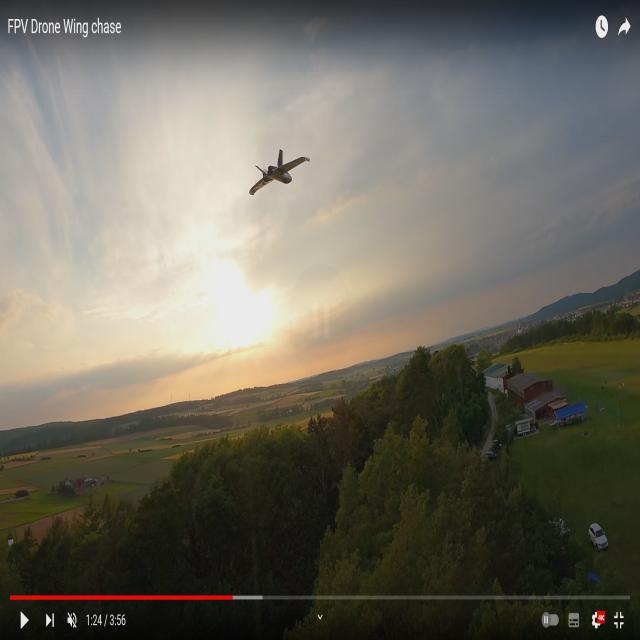iha: (250, 150, 311, 196)
